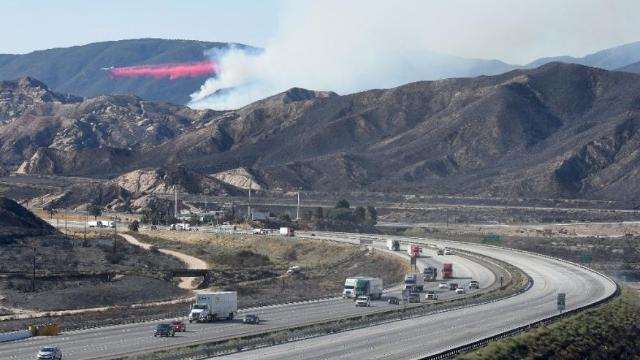smoke: (188, 2, 498, 109)
